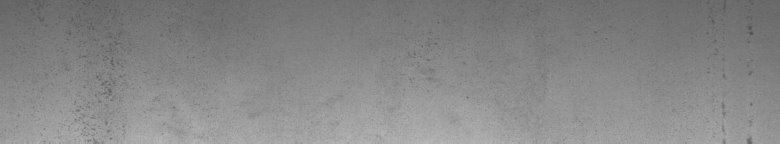ib: (38, 16, 126, 136)
